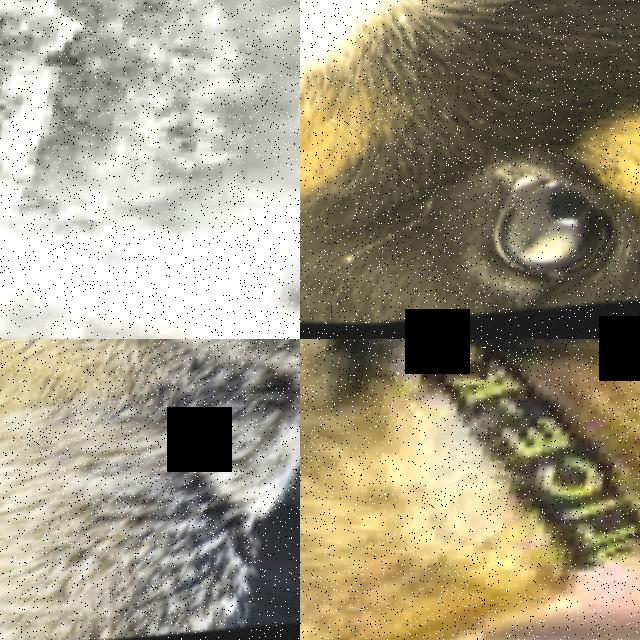dog: (300, 0, 640, 339), (300, 339, 640, 640)
wolf: (0, 339, 300, 640), (0, 257, 264, 339)
